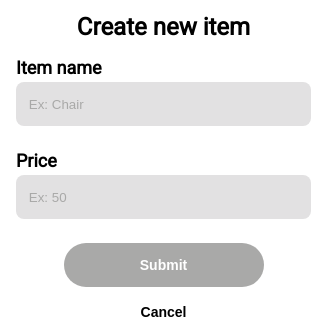
should have Submit button enabled if the inputs are valid
Step 1. Type "Chair" into the field labelled "Item name" → (164, 104), box [16,82,311,126]
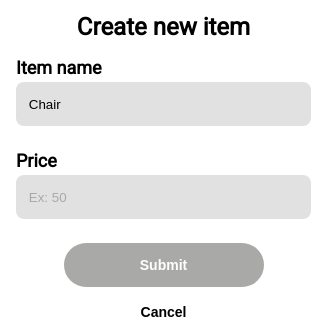
Step 2. Type "50" into the number field labelled "Price" → (164, 197), box [16,175,311,219]
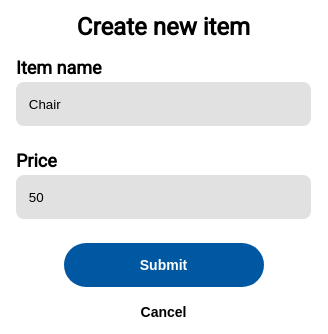
Result: the button "Submit" is enabled at [64,243,264,287]
